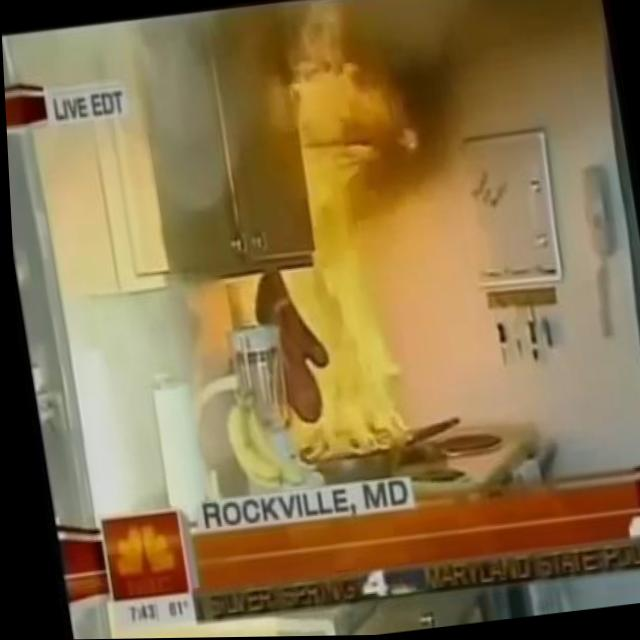fire: (210, 5, 456, 466)
